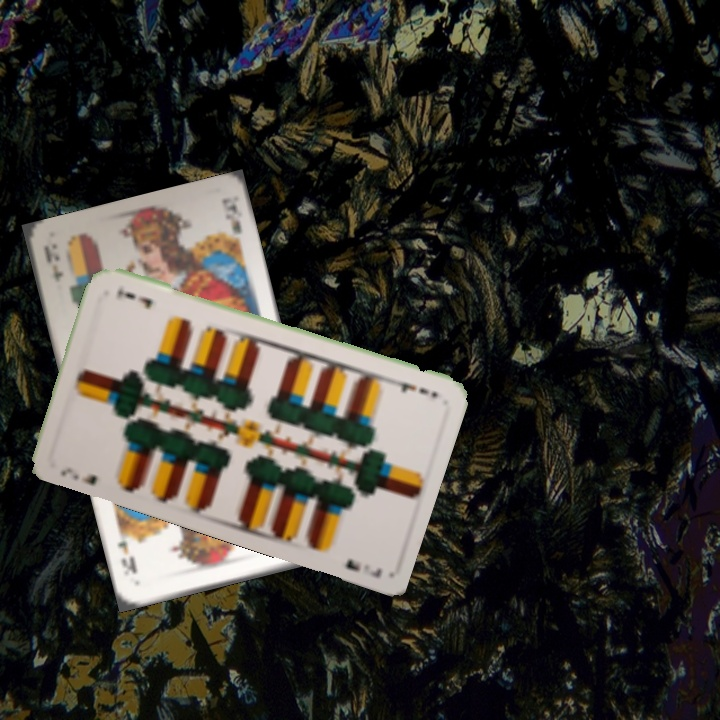E7: (385, 377, 441, 401), (57, 463, 100, 488)
EK: (39, 243, 67, 285)
